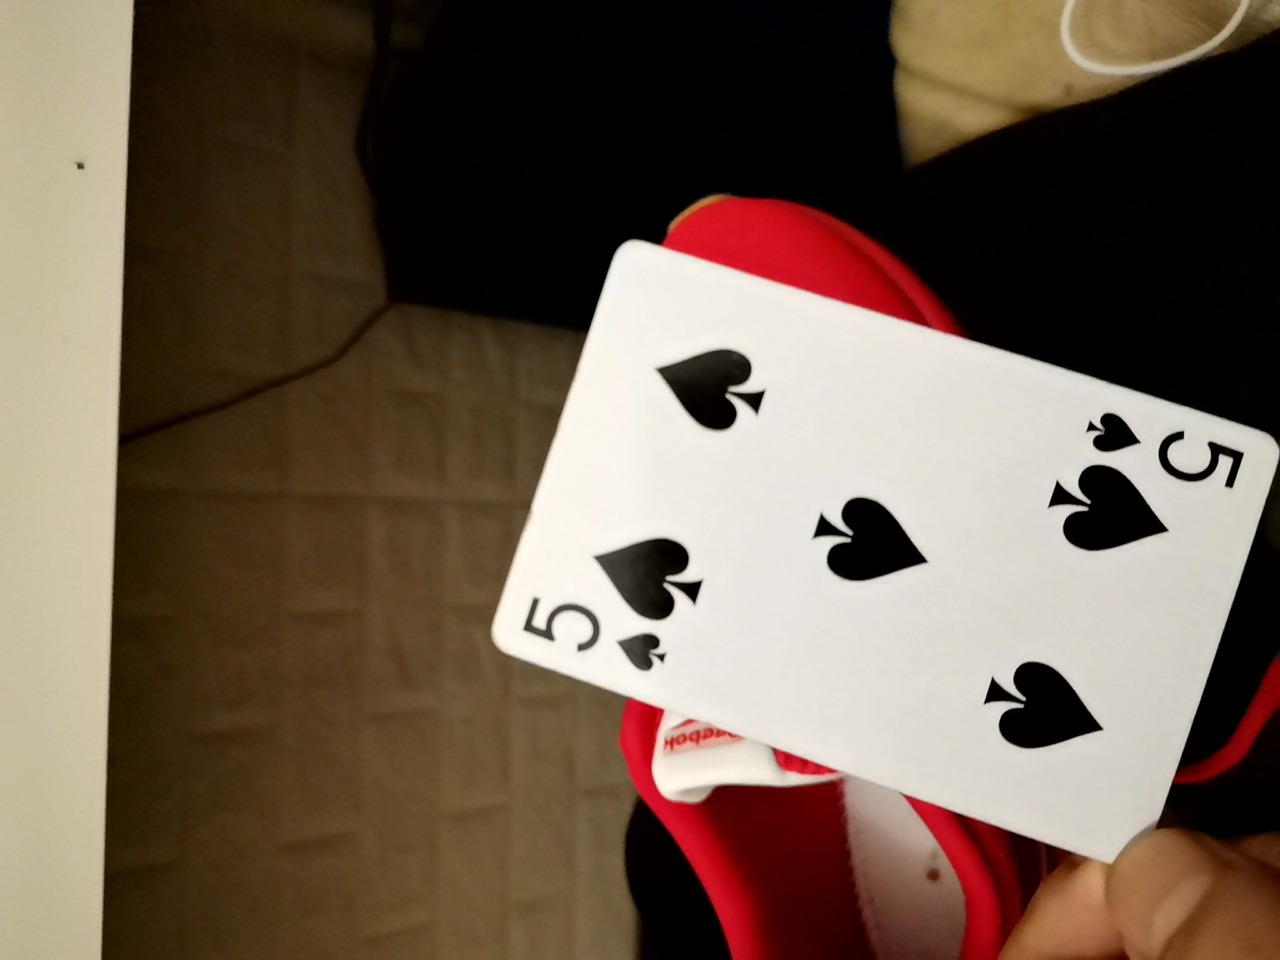ht 5: (486, 250, 1262, 871)
